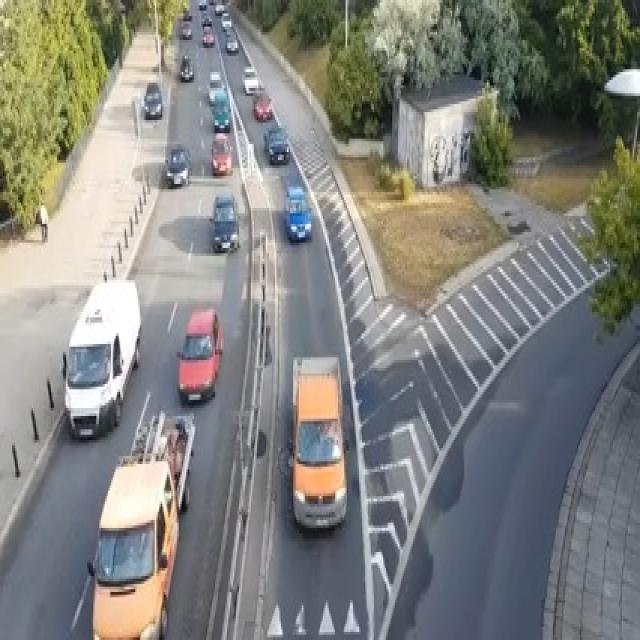bus: (62, 275, 141, 437), (288, 352, 347, 531)
car: (176, 306, 222, 402), (282, 184, 312, 243), (210, 192, 239, 253), (164, 144, 191, 187), (263, 125, 290, 163), (210, 134, 233, 174), (143, 80, 162, 117), (207, 69, 224, 104), (252, 91, 272, 120), (242, 64, 261, 93), (212, 104, 230, 131), (179, 53, 194, 80), (225, 35, 239, 53), (202, 27, 214, 45), (180, 22, 192, 38), (221, 11, 231, 29), (201, 13, 212, 27), (182, 8, 191, 19), (215, 3, 224, 13), (198, 0, 206, 8)
